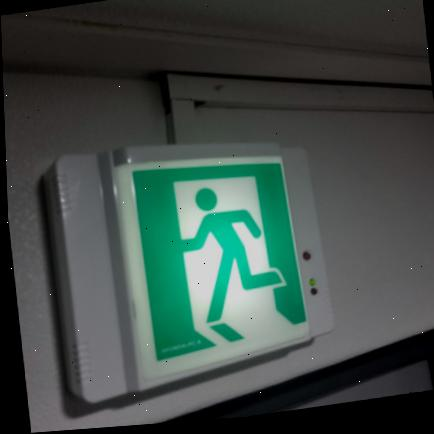emergency_exit: (100, 142, 333, 389)
